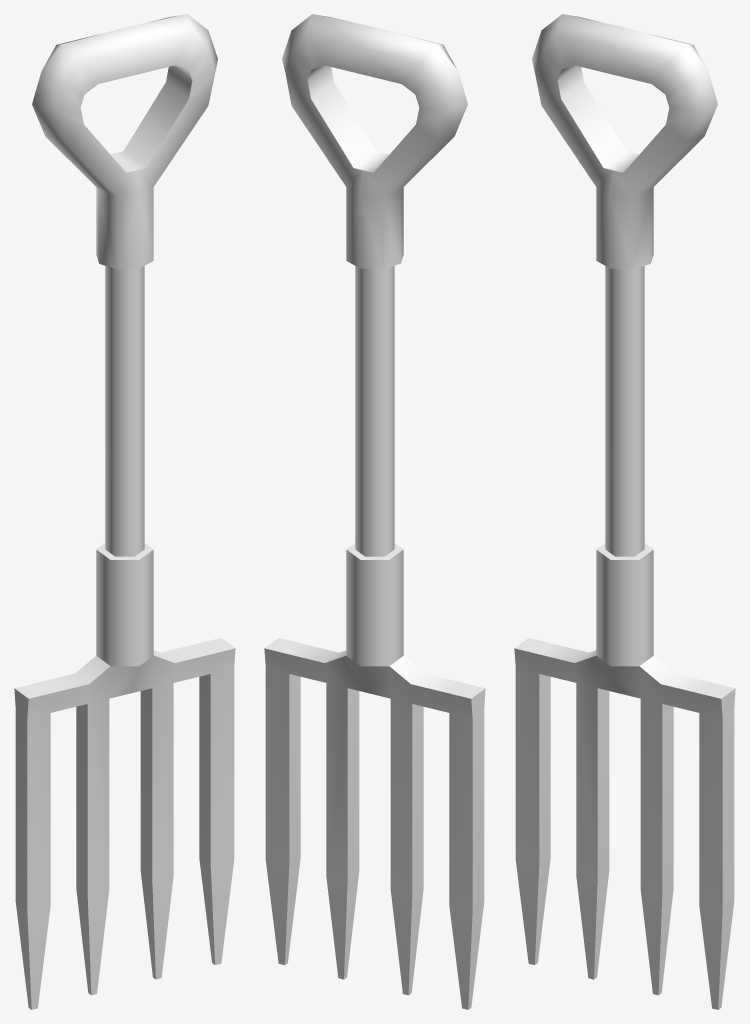
The model's file is Pitchfork.fbx.
The picture shows the model from 3 angles, left to right: view 1: azimuth 30°, elevation 25°; view 2: azimuth 150°, elevation 25°; view 3: azimuth 330°, elevation 25°; orthographic projection.
Parts seen in each view (by area): view 1: Pitchfork; view 2: Pitchfork; view 3: Pitchfork.
Boxes of the visible parts, x1,y1,x2,y2 form: Pitchfork: [14, 14, 235, 1009]; Pitchfork: [264, 14, 485, 1009]; Pitchfork: [514, 14, 735, 1009].
Bounding box in the file's own units: 32.33 × 143 × 8.07.
